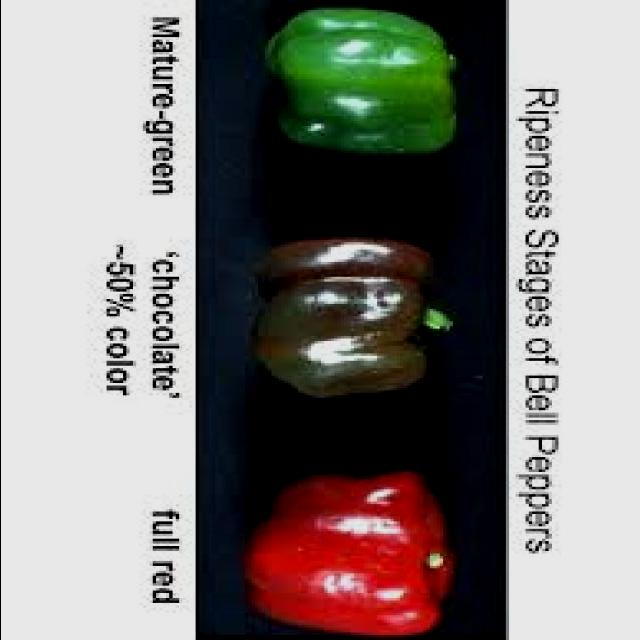bell_pepper: (238, 477, 456, 637), (243, 14, 461, 159)
